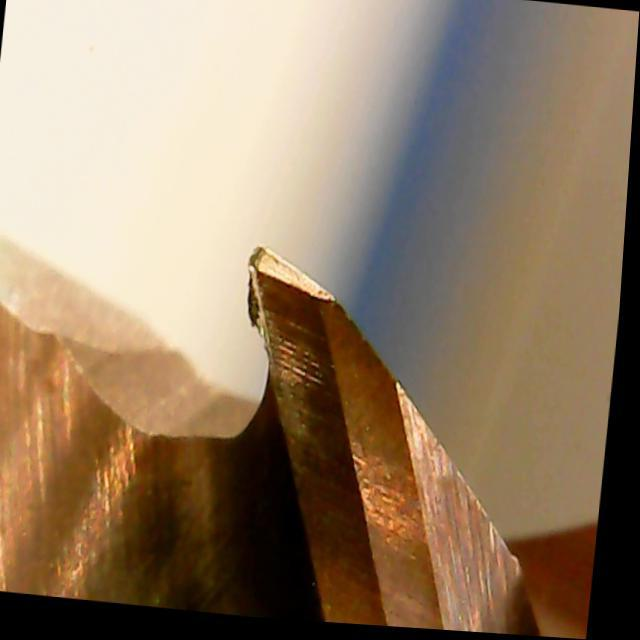Tool-wear-class-1: (227, 234, 397, 497)
